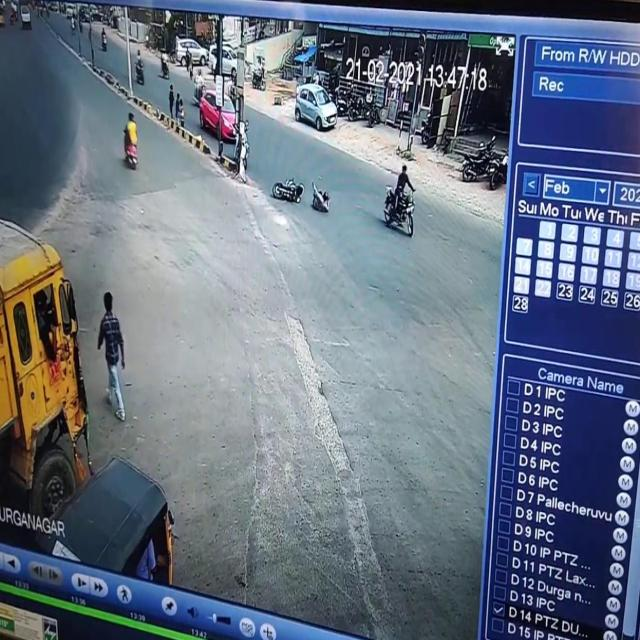accident: (266, 168, 334, 221)
